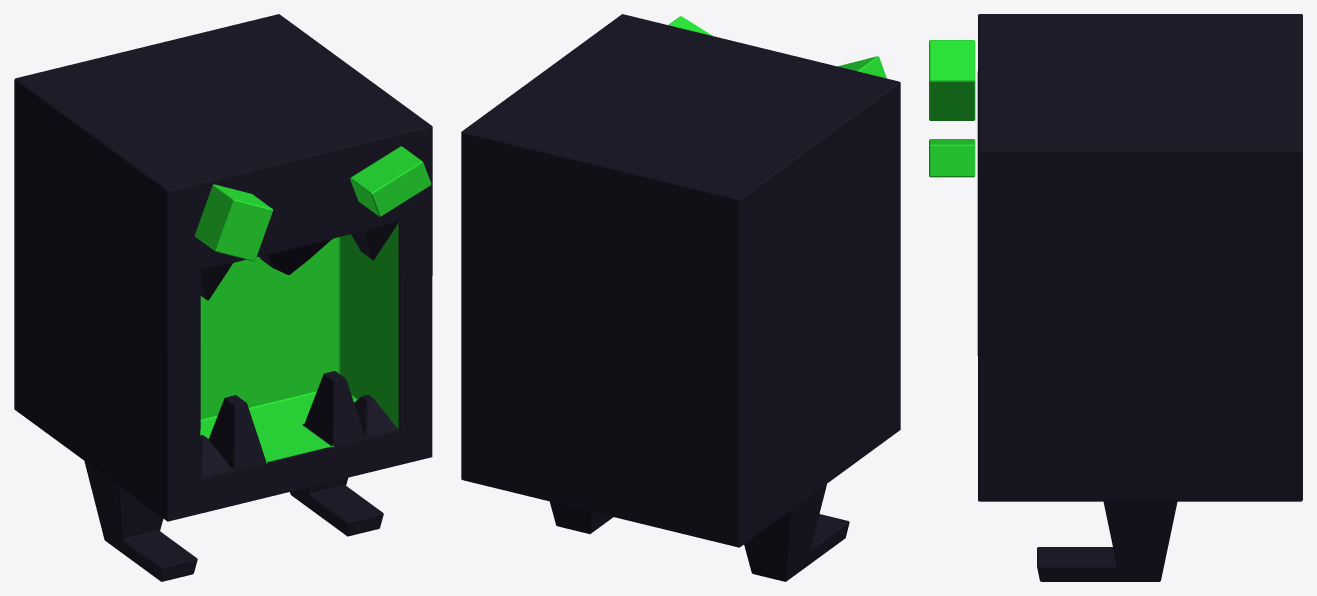
Rendered from Creature.fbx.
3 renders of one model, left to right at view 1: azimuth 30°, elevation 25°; view 2: azimuth 150°, elevation 25°; view 3: azimuth 270°, elevation 25°, orthographic. The views are drawn at different scales.
Parts seen in each view (by area): view 1: Cube; view 2: Cube; view 3: Cube.
Part boxes in pixels (x1=…): Cube: x1=14, y1=14, x2=432, y2=581; Cube: x1=461, y1=14, x2=900, y2=581; Cube: x1=929, y1=14, x2=1302, y2=581.
Bounding box in the file's own units: 79.95 × 121 × 92.03.
